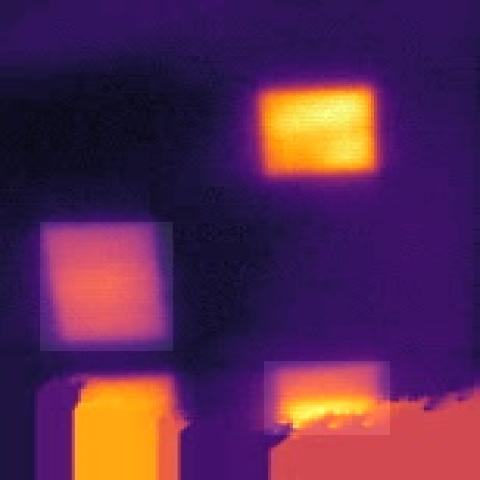fault: (40, 222, 173, 351), (63, 371, 194, 480), (252, 84, 389, 181), (264, 362, 390, 436)
